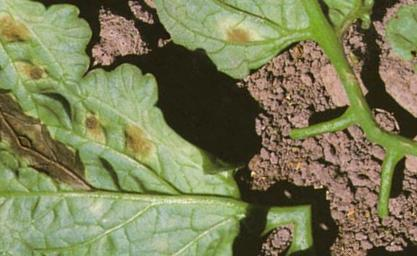Tomato mold leaf: (0, 39, 300, 256), (141, 0, 372, 118)
